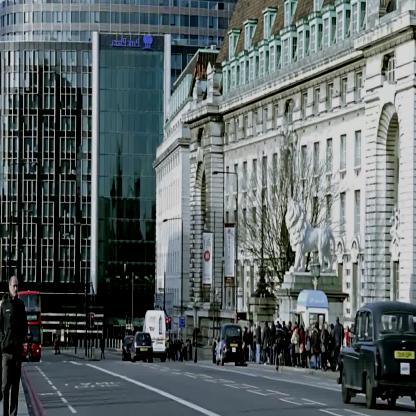bus: (18, 292, 42, 362)
car: (340, 300, 415, 411), (214, 324, 244, 366), (130, 332, 154, 364)
truck: (142, 312, 166, 360)
